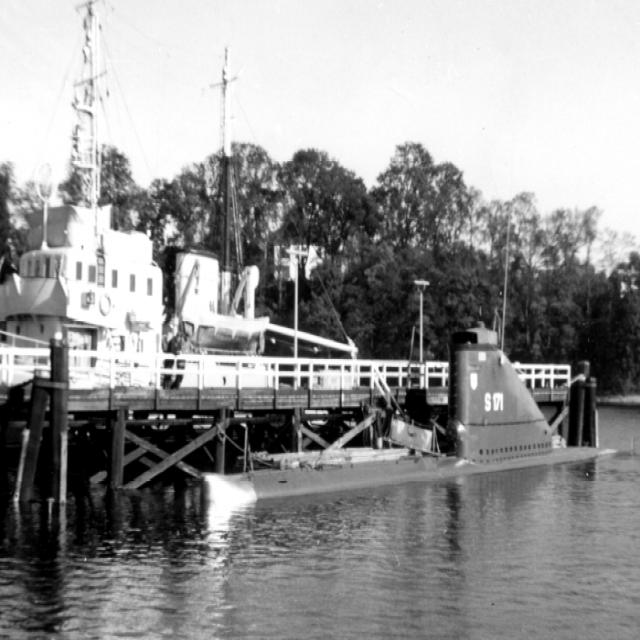submarine: (257, 345, 621, 513)
